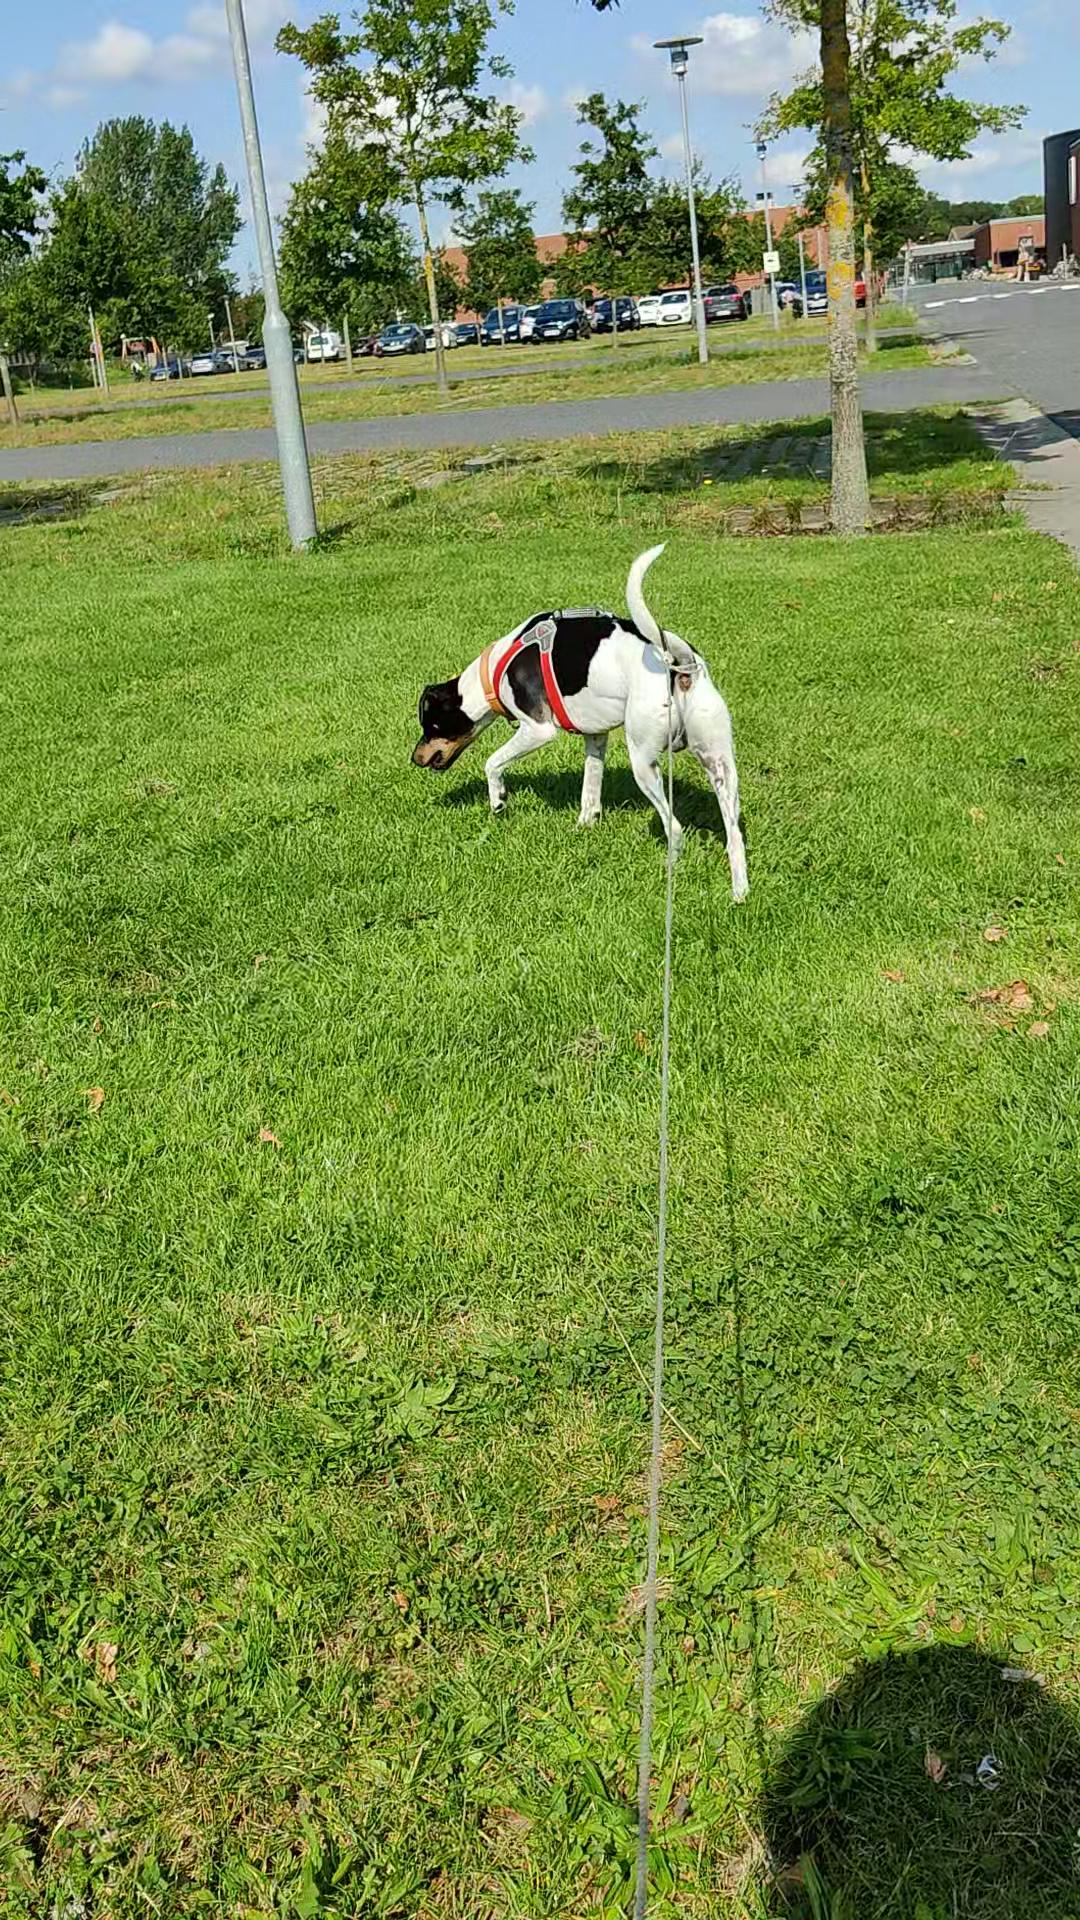Dog: (396, 524, 756, 915)
